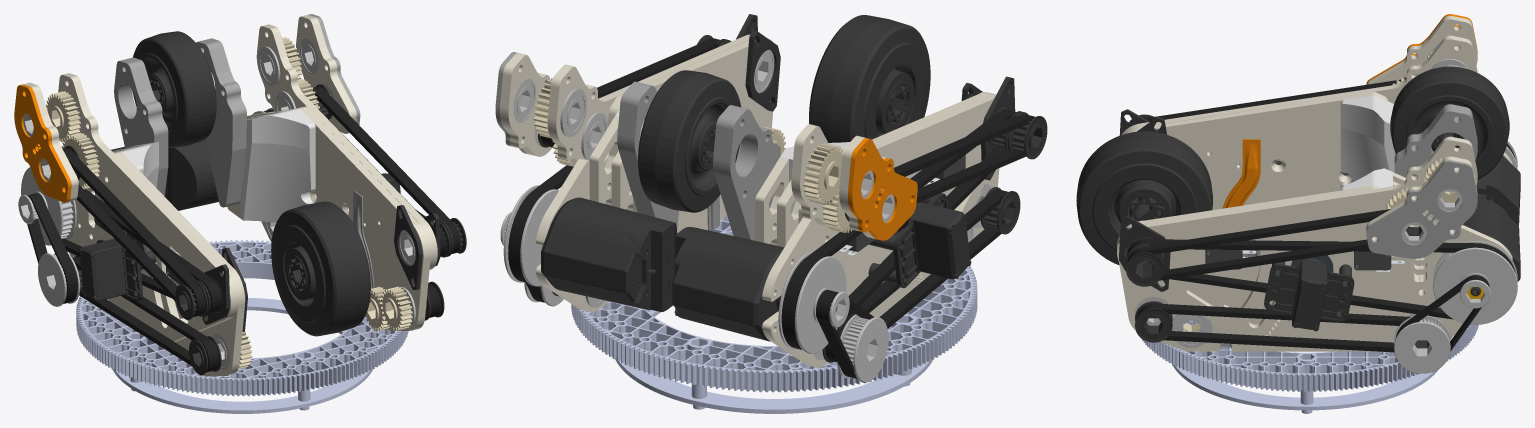
3 views of the same model, side by side, from view 1: azimuth 30°, elevation 25°; view 2: azimuth 150°, elevation 25°; view 3: azimuth 270°, elevation 25° (orthographic). The views are drawn at different scales.
Parts seen in each view (by area): view 1: am-5038 200T 20DP Turntable Gear, 4" Colson Performa Wheel (1.5" WD, 1/2" Hex Bore), Side Plate L, Flywheel feed guide, Arm L_1, 3.5" Colson Performa Wheel (1.25" WD, 1/2" Hex Bore), Side Plate L-Mirrored, HTD 95B, Ball Trajectory Guide L_1, Arm L, AndyMark Programmable Servo-Mirrored, Part 1-Mirrored (+24 smaller); view 2: am-5038 200T 20DP Turntable Gear, 4" Colson Performa Wheel (1.5" WD, 1/2" Hex Bore), Kraken X60 Brushless Motor, 3.5" Colson Performa Wheel (1.25" WD, 1/2" Hex Bore), Kraken X60 Brushless Motor-Mirrored, Arm L_1, Side Plate L-Mirrored, Side Plate L, AndyMark Programmable Servo-Mirrored, HTD 115B, Ball Trajectory Guide L_3, Part 1-Mirrored (+27 smaller); view 3: Side Plate L-Mirrored, am-5038 200T 20DP Turntable Gear, Side Plate L, Arm L, 4" Colson Performa Wheel (1.5" WD, 1/2" Hex Bore), 3.5" Colson Performa Wheel (1.25" WD, 1/2" Hex Bore), Part 1_2, HTD 95B_1, AndyMark Programmable Servo, HTD 95B_2, HTD 36P_1, Flywheel feed guide-Mirrored (+20 smaller).
Boxes of the visible parts, box(x1,y1,x2,y2) form: am-5038 200T 20DP Turntable Gear: box(76, 240, 408, 413); 4" Colson Performa Wheel (1.5" WD, 1/2" Hex Bore): box(271, 201, 370, 336); Side Plate L: box(247, 106, 430, 330); Flywheel feed guide: box(239, 108, 315, 222); Arm L_1: box(58, 73, 237, 341); 3.5" Colson Performa Wheel (1.25" WD, 1/2" Hex Bore): box(132, 31, 216, 147); Side Plate L-Mirrored: box(69, 151, 245, 376); HTD 95B: box(62, 148, 205, 316); Ball Trajectory Guide L_1: box(196, 40, 239, 207); Arm L: box(256, 24, 437, 269); AndyMark Programmable Servo-Mirrored: box(78, 239, 142, 301); Part 1-Mirrored: box(14, 84, 71, 202); am-5038 200T 20DP Turntable Gear: box(571, 216, 977, 413); 4" Colson Performa Wheel (1.5" WD, 1/2" Hex Bore): box(809, 15, 930, 142); Kraken X60 Brushless Motor: box(541, 197, 677, 311); 3.5" Colson Performa Wheel (1.25" WD, 1/2" Hex Bore): box(638, 70, 740, 212); Kraken X60 Brushless Motor-Mirrored: box(672, 227, 837, 341); Arm L_1: box(791, 94, 996, 284); Side Plate L-Mirrored: box(762, 92, 999, 367); Side Plate L: box(535, 39, 773, 312); AndyMark Programmable Servo-Mirrored: box(893, 193, 971, 288); HTD 115B: box(781, 109, 1015, 349); Ball Trajectory Guide L_3: box(721, 107, 779, 240); Part 1-Mirrored: box(848, 138, 917, 240); Side Plate L-Mirrored: box(1126, 92, 1512, 209); am-5038 200T 20DP Turntable Gear: box(1140, 320, 1478, 413); Side Plate L: box(1117, 185, 1512, 351); Arm L: box(1117, 136, 1477, 347); 4" Colson Performa Wheel (1.5" WD, 1/2" Hex Bore): box(1076, 131, 1212, 264); 3.5" Colson Performa Wheel (1.25" WD, 1/2" Hex Bore): box(1390, 66, 1509, 179); Part 1_2: box(1366, 160, 1477, 258); HTD 95B_1: box(1127, 209, 1390, 280); AndyMark Programmable Servo: box(1264, 260, 1354, 331); HTD 95B_2: box(1136, 303, 1410, 352); HTD 36P_1: box(1433, 241, 1517, 324); Flywheel feed guide-Mirrored: box(1340, 95, 1394, 188).
Size of the model in its own units: 0.2754 by 0.2343 by 0.3302.
